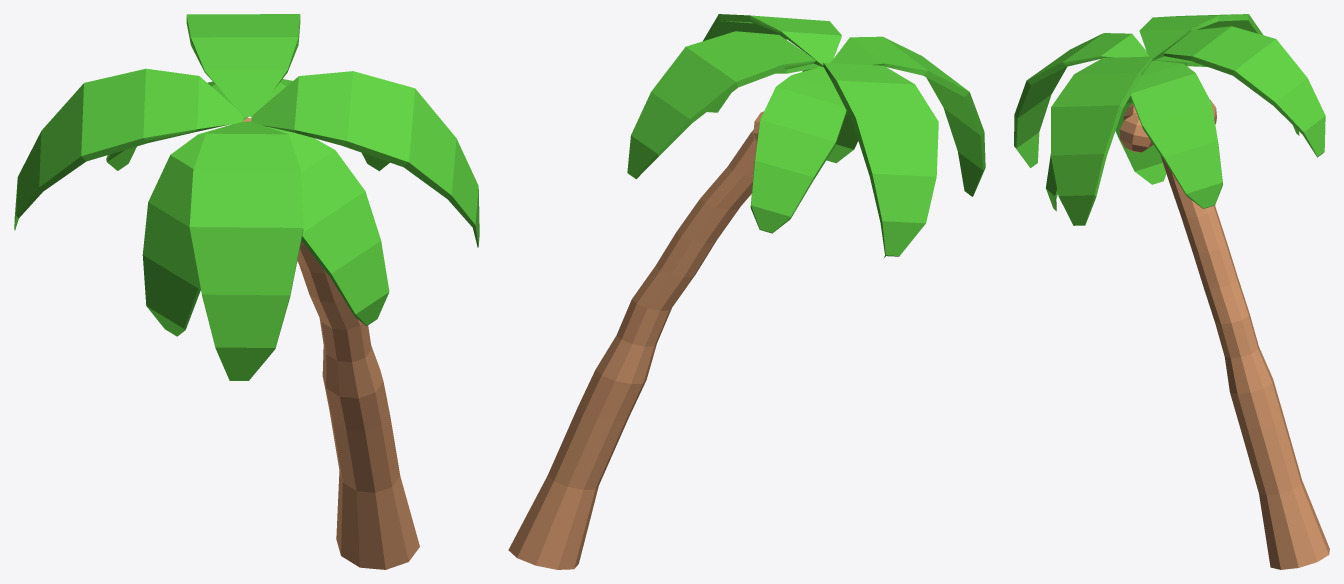
The model's file is Palmera3.fbx.
The picture shows the model from 3 angles, left to right: view 1: azimuth 30°, elevation 25°; view 2: azimuth 150°, elevation 25°; view 3: azimuth 270°, elevation 25°; orthographic projection. The views are drawn at different scales.
Visible parts, largest first — view 1: PALM3; view 2: PALM3; view 3: PALM3.
Part boxes in pixels (left/top/right/bottom): PALM3: left=14, top=14, right=479, bottom=569; PALM3: left=508, top=14, right=985, bottom=569; PALM3: left=1014, top=14, right=1329, bottom=569.
Size of the model in its own units: 1.96 by 2.58 by 1.63.
